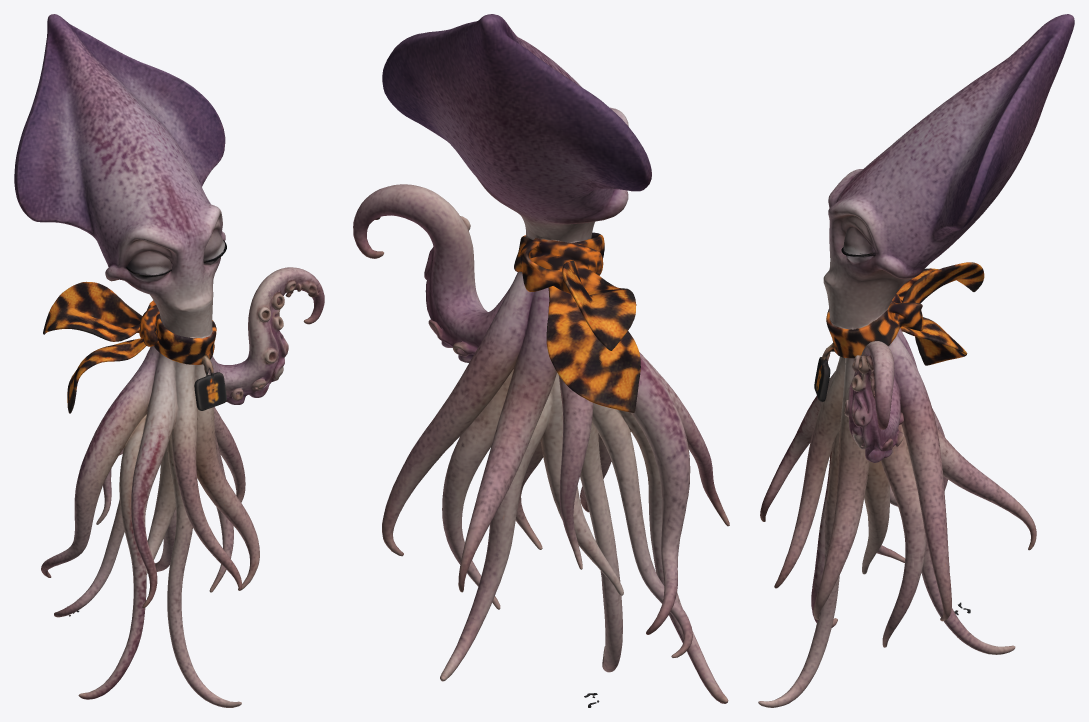
File: source-reconstruction.glb
3 renders of one model, left to right at view 1: azimuth 30°, elevation 25°; view 2: azimuth 150°, elevation 25°; view 3: azimuth 270°, elevation 25°, orthographic. The views are drawn at different scales.
Visible parts, largest first — view 1: geometry_0; view 2: geometry_0; view 3: geometry_0.
Part boxes in pixels (box(x1,y1,x2,y2)): geometry_0: box(14, 14, 324, 707); geometry_0: box(353, 14, 729, 707); geometry_0: box(758, 14, 1074, 707).
Bounding box in the file's own units: 0.4613 × 1 × 0.4284.
1 material, 1 textured.
